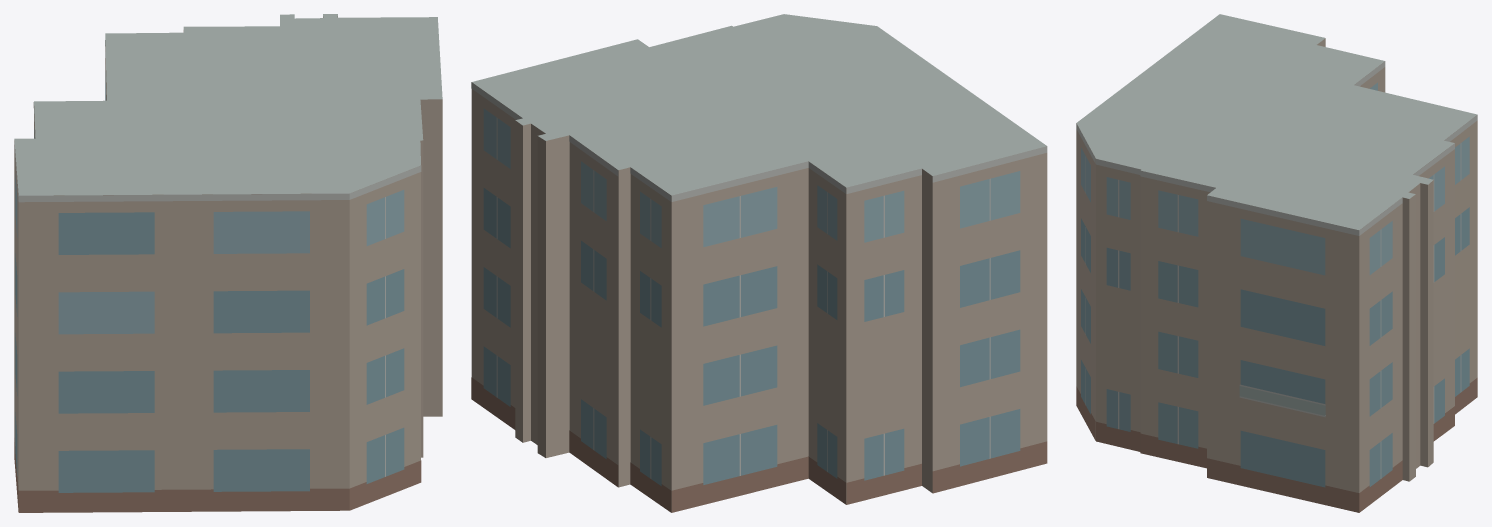
Rendered from survey-upis-32991444.glb.
3 renders of one model, left to right at view 1: azimuth 30°, elevation 25°; view 2: azimuth 150°, elevation 25°; view 3: azimuth 270°, elevation 25°, orthographic. The views are drawn at different scales.
Parts seen in each view (by area): view 1: survey-upis-32991444.tmp; view 2: survey-upis-32991444.tmp; view 3: survey-upis-32991444.tmp.
Part boxes in pixels (left/top/right/bottom): survey-upis-32991444.tmp: left=14, top=14, right=442, bottom=512; survey-upis-32991444.tmp: left=471, top=14, right=1047, bottom=512; survey-upis-32991444.tmp: left=1076, top=14, right=1477, bottom=512.
Size of the model in its own units: 19.54 by 11.9 by 15.32.
